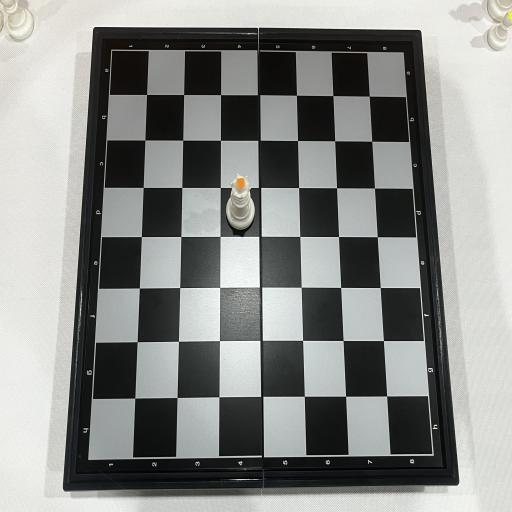White queen: (226, 172, 254, 228)
